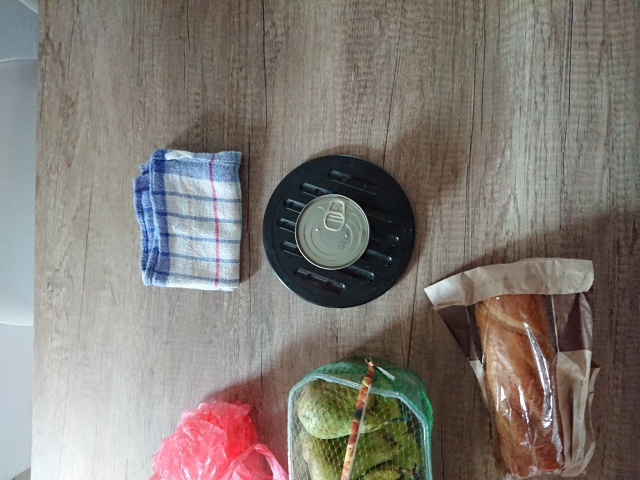Podravka Luncheon Meat 150g: (291, 191, 373, 273)
